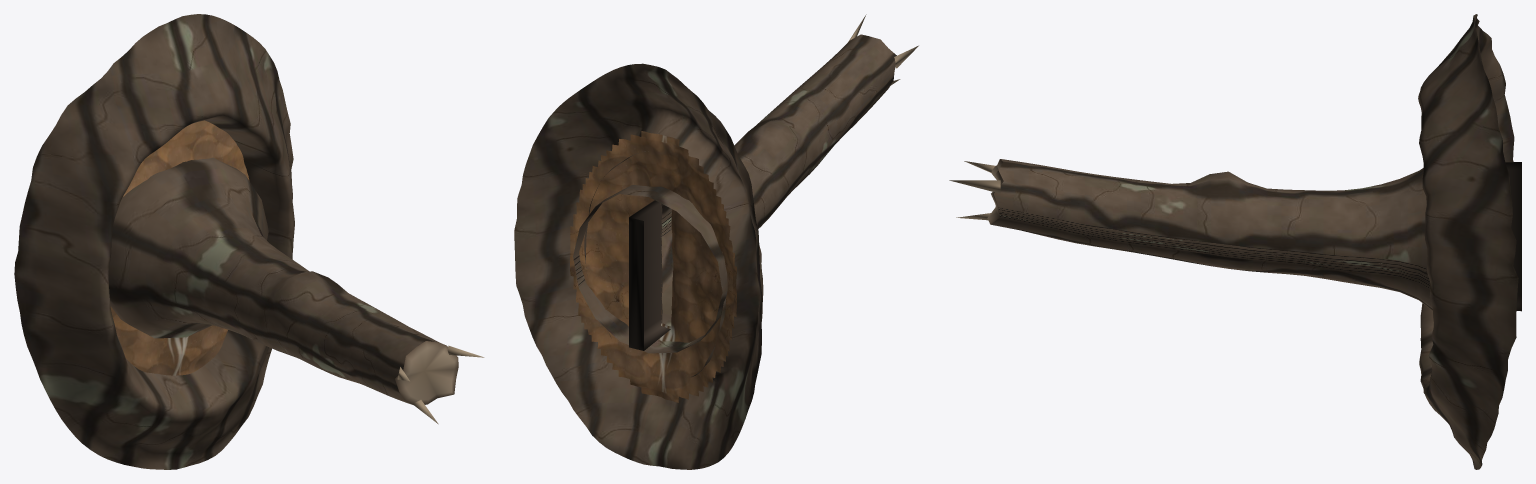
The model's file is hornbill_nest.glb.
3 renders of one model, left to right at view 1: azimuth 30°, elevation 25°; view 2: azimuth 150°, elevation 25°; view 3: azimuth 270°, elevation 25°, orthographic. The views are drawn at different scales.
Visible parts, largest first — view 1: nest_rim, nest_stub, nest_mud, nest_stubEnd; view 2: nest_rim, nest_mud, nest_stub, nest_slit; view 3: nest_stub, nest_rim, nest_slit, nest_stubEnd.
Boxes of the visible parts, <box> form: nest_rim: <box>14,14,294,469</box>; nest_stub: <box>108,157,439,404</box>; nest_mud: <box>110,120,249,375</box>; nest_stubEnd: <box>395,341,484,424</box>; nest_rim: <box>514,63,763,469</box>; nest_mud: <box>570,131,736,402</box>; nest_stub: <box>573,34,896,353</box>; nest_slit: <box>629,200,670,350</box>; nest_stub: <box>991,159,1432,310</box>; nest_rim: <box>1418,14,1518,469</box>; nest_slit: <box>1505,162,1521,311</box>; nest_stubEnd: <box>949,159,1003,224</box>.
Size of the model in its own units: 0.2069 by 0.3213 by 0.383.
5 materials, 3 textured.
